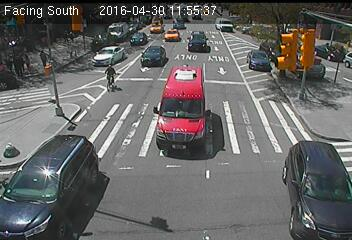neg: (217, 58, 246, 98), (152, 117, 179, 154), (99, 62, 120, 91), (200, 100, 214, 118), (156, 51, 165, 63)
pos: (33, 46, 52, 71), (56, 26, 68, 42), (67, 29, 75, 39)
